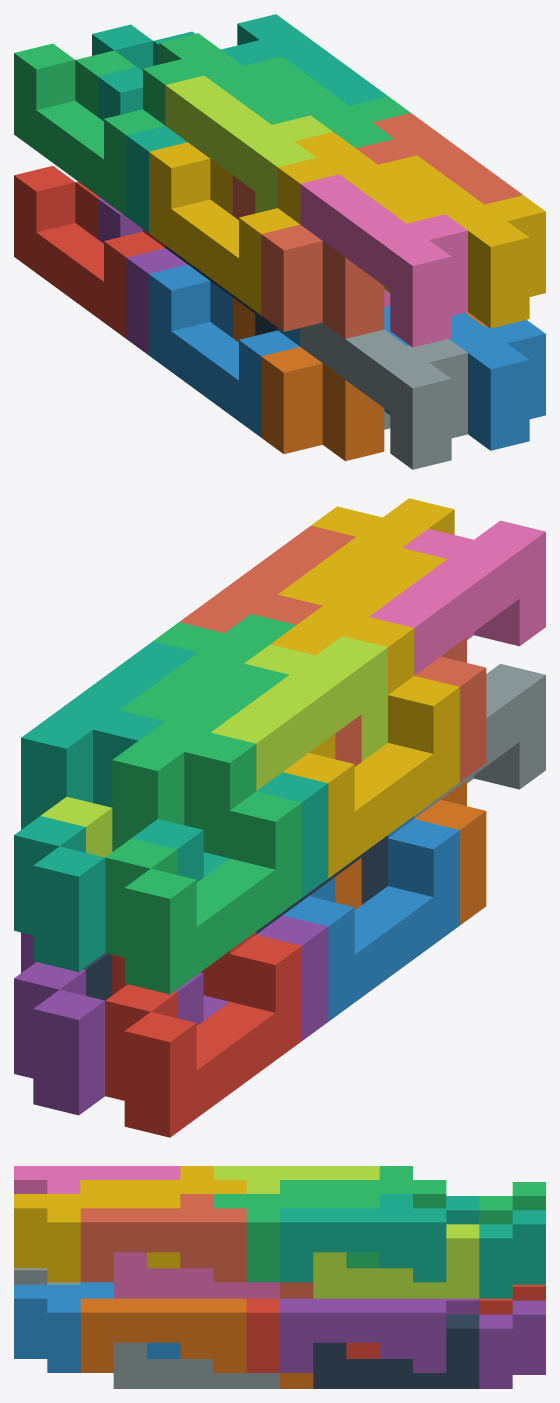
File: tiling.obj
3 views of the same model, one above another, from view 1: azimuth 30°, elevation 25°; view 2: azimuth 150°, elevation 25°; view 3: azimuth 270°, elevation 25° (orthographic). The views are drawn at different scales.
Parts seen in each view (by area): view 1: copy_2_domain_4, copy_1_domain_3, copy_2_domain_2, copy_1_domain_1, copy_1_domain_2, copy_1_domain_4, copy_2_domain_8, copy_3_domain_2, copy_3_domain_4, copy_2_domain_3, copy_2_domain_6, copy_4_domain_3 (+8 smaller); view 2: copy_1_domain_3, copy_1_domain_1, copy_4_domain_3, copy_1_domain_4, copy_1_domain_2, copy_2_domain_4, copy_2_domain_3, copy_4_domain_7, copy_1_domain_7, copy_1_domain_5, copy_4_domain_4, copy_2_domain_8 (+11 smaller); view 3: copy_4_domain_7, copy_4_domain_8, copy_4_domain_5, copy_4_domain_6, copy_2_domain_8, copy_3_domain_7, copy_3_domain_5, copy_2_domain_6, copy_2_domain_7, copy_1_domain_7, copy_1_domain_5, copy_3_domain_8 (+13 smaller).
Part boxes in pixels (x1,y1,x2,y2): copy_2_domain_4: [300, 174, 467, 347]; copy_1_domain_3: [14, 43, 164, 216]; copy_2_domain_2: [300, 322, 467, 469]; copy_1_domain_1: [14, 166, 164, 338]; copy_1_domain_2: [149, 264, 299, 437]; copy_1_domain_4: [149, 142, 299, 314]; copy_2_domain_8: [378, 155, 545, 328]; copy_3_domain_2: [232, 297, 384, 461]; copy_3_domain_4: [232, 175, 384, 338]; copy_2_domain_3: [165, 75, 332, 213]; copy_2_domain_6: [449, 313, 545, 450]; copy_4_domain_3: [143, 33, 310, 125]; copy_1_domain_3: [105, 791, 301, 994]; copy_1_domain_1: [105, 934, 301, 1137]; copy_4_domain_3: [112, 663, 289, 858]; copy_1_domain_4: [283, 676, 459, 878]; copy_1_domain_2: [283, 819, 459, 1021]; copy_2_domain_4: [369, 520, 545, 675]; copy_2_domain_3: [211, 636, 387, 790]; copy_4_domain_7: [21, 641, 197, 829]; copy_1_domain_7: [14, 816, 105, 971]; copy_1_domain_5: [14, 962, 105, 1115]; copy_4_domain_4: [271, 548, 447, 694]; copy_2_domain_8: [278, 498, 454, 605]; copy_4_domain_7: [280, 1194, 446, 1282]; copy_4_domain_8: [80, 1194, 246, 1282]; copy_4_domain_5: [280, 1298, 446, 1372]; copy_4_domain_6: [80, 1298, 246, 1372]; copy_2_domain_8: [14, 1194, 180, 1282]; copy_3_domain_7: [313, 1224, 479, 1298]; copy_3_domain_5: [313, 1314, 479, 1388]; copy_2_domain_6: [14, 1284, 180, 1372]; copy_2_domain_7: [213, 1194, 379, 1282]; copy_1_domain_7: [479, 1210, 545, 1298]; copy_1_domain_5: [479, 1300, 545, 1388]; copy_3_domain_8: [113, 1252, 279, 1298].
Size of the model in its own units: 5 by 6 by 16.
